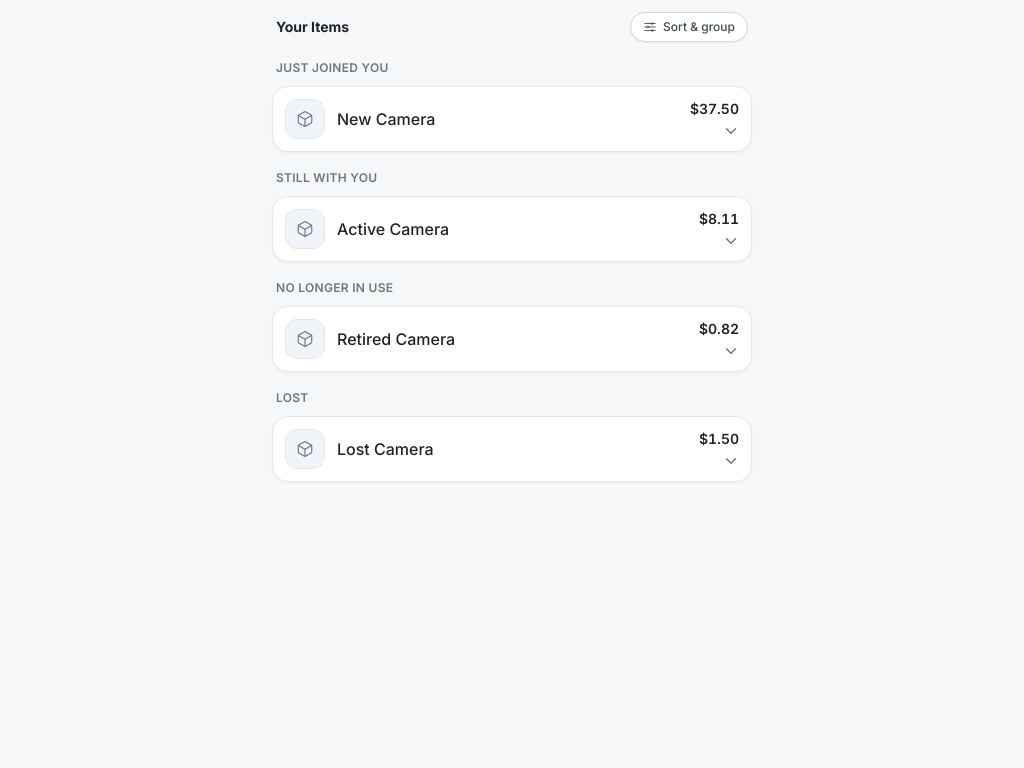
Test case: ItemList lifecycle display › keeps active lifecycle quiet while showing age-aware human copy when expanded
Click the button "New Camera $37.50" at (305, 119), box [273,87,751,151]
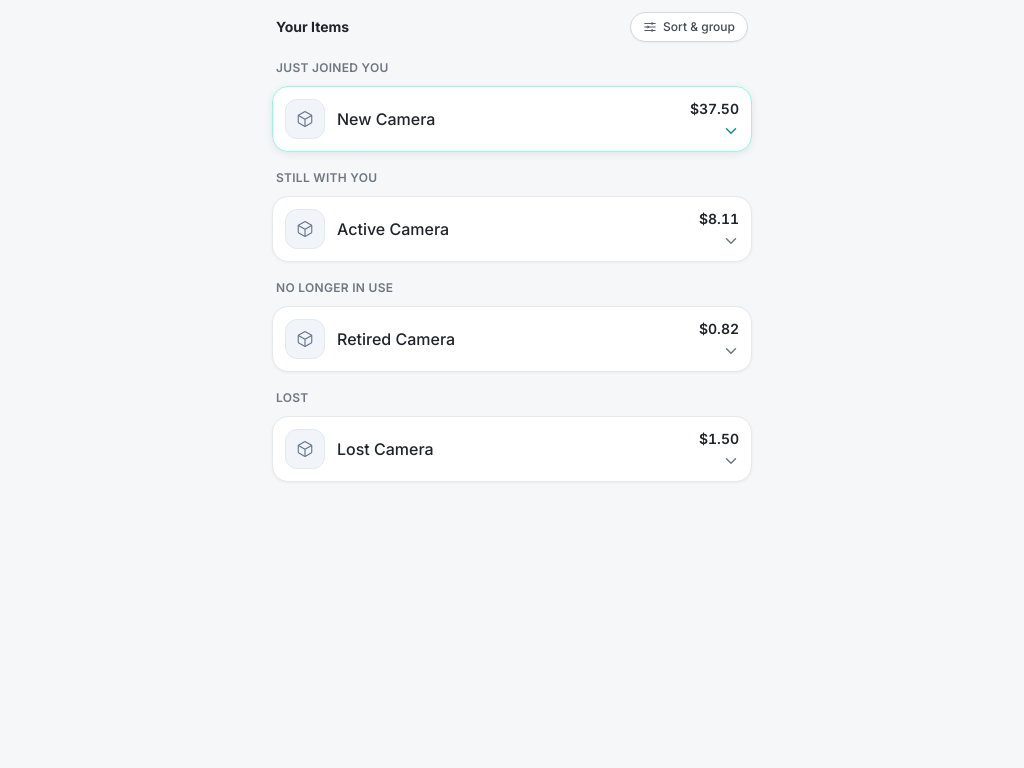
Click the button "New Camera $37.50" at (305, 119), box [273,87,751,151]
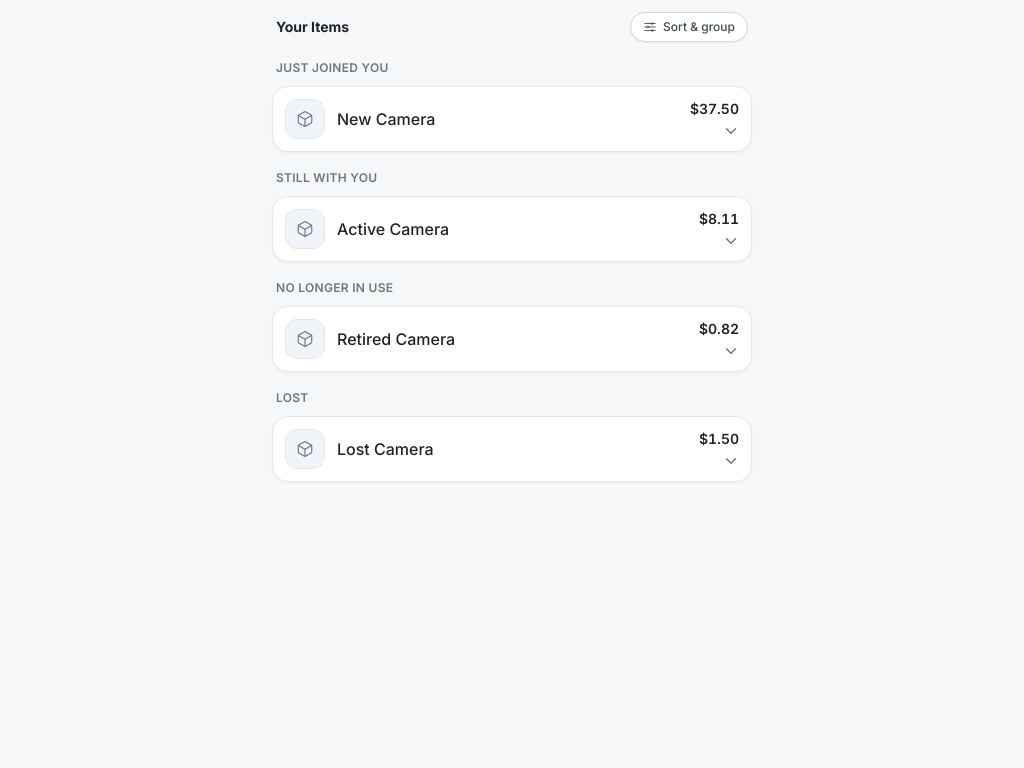
Click the button "Active Camera $8.11" at (305, 229), box [273,197,751,261]
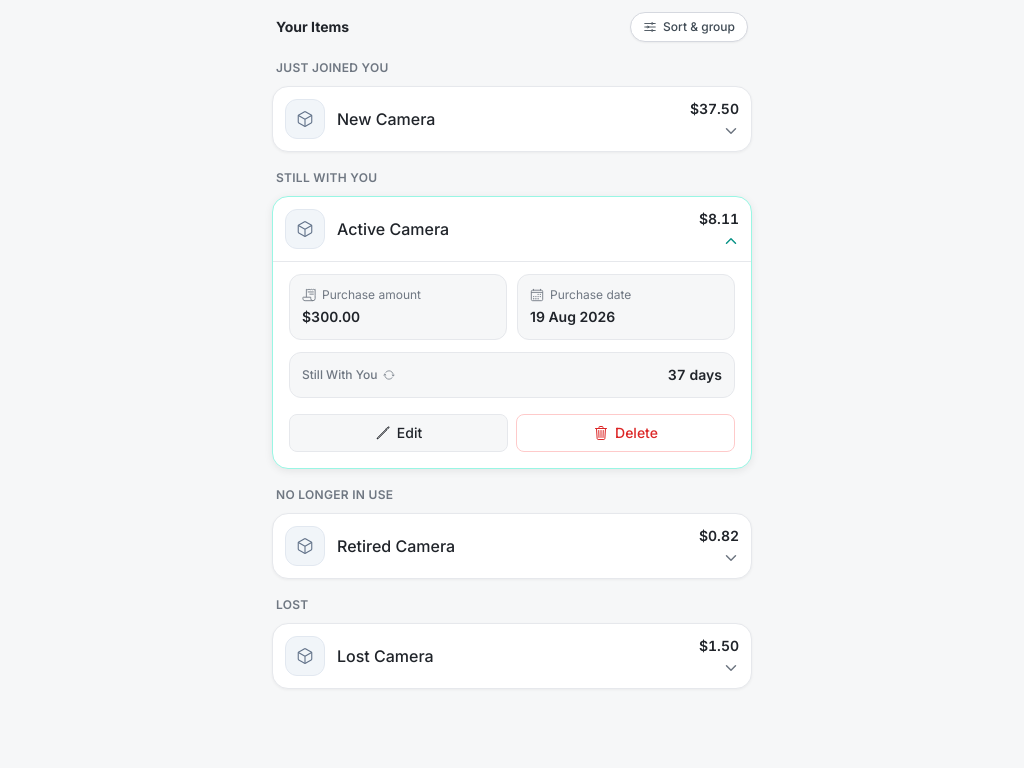
Expected: the text "Still With You" is shown, [302,367,378,383]
